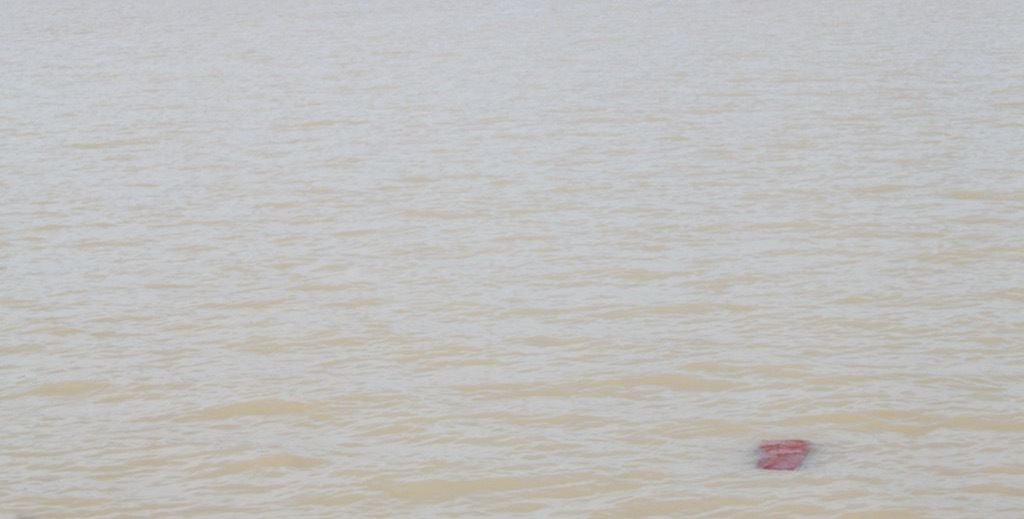plastic: (732, 419, 841, 491)
